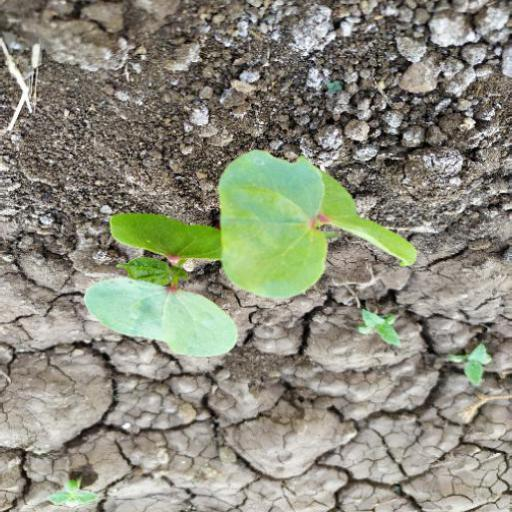crop: (83, 143, 419, 377)
